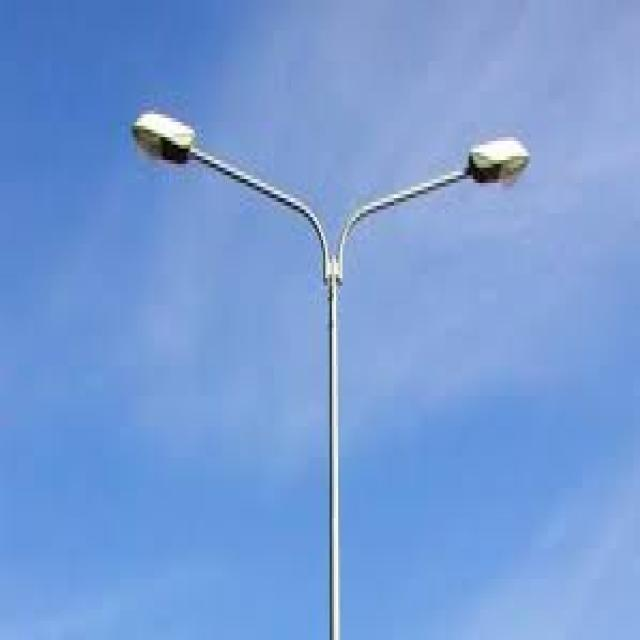Street Light: (131, 103, 528, 640)
